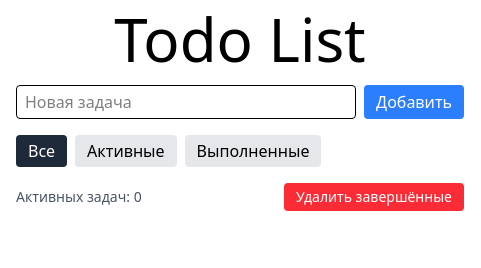
Test case: Todo App › можно добавить задачу
Type "Первая задача" into the field with placeholder "Новая задача" at (186, 102), box [16, 85, 356, 119]
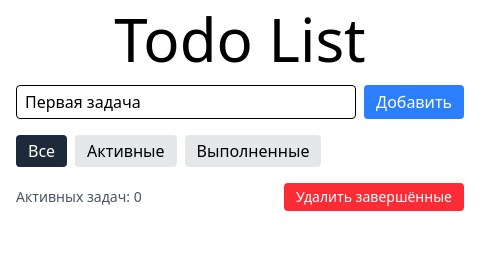
Click the button "Добавить" at (414, 102), box [364, 85, 464, 119]
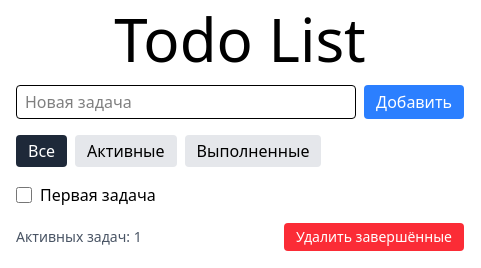
Now the text "Первая задача" is shown, box [40, 183, 156, 207]
